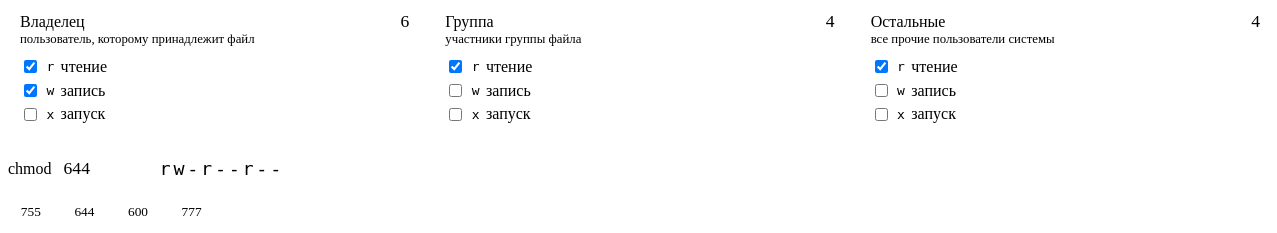
Scenario: typing an octal number updates checkboxes and letters
Replace the text in the field named "восьмеричные права" with "640". click: coordinates (100, 169)
box: [56, 154, 144, 183]
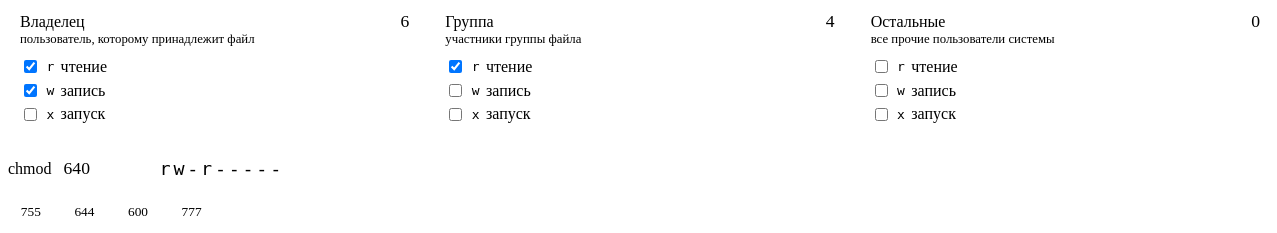
Expected: the checkbox named "Владелец: чтение" is checked, [24, 60, 37, 73]
Result: the text "rw-r-----" is shown at [160, 158, 284, 179]
Result: the checkbox named "Остальные: чтение" is not checked at [875, 60, 888, 73]
